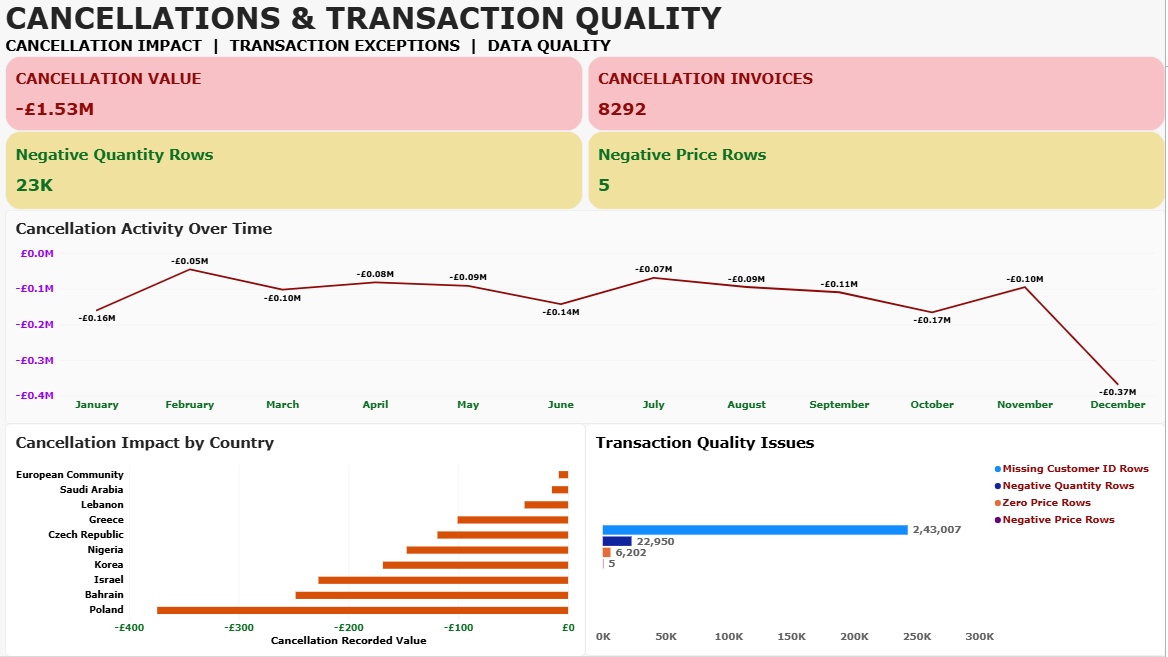

This screenshot's page, from the dashboard's own definition file:
{"tool":"powerbi","page":{"name":"CANCELLATIONS & TRANSACTION QUALITY","canvas":[1920,1080],"ordinal":2},"visuals":[{"type":"textbox","title":"CANCELLATIONS & TRANSACTION QUALITY","box":[10.3,0,1910.1,92.6],"z":0},{"type":"cardVisual","fields":{"Data":["online_retail_full.Cancellation Recorded Value","online_retail_full.Cancellation Invoices"]},"box":[10.3,92.6,1910.1,123.5],"z":1000},{"type":"cardVisual","fields":{"Data":["online_retail_full.Negative Quantity Rows","online_retail_full.Negative Price Rows"]},"box":[10.3,216.1,1910.1,129.7],"z":2000},{"type":"lineChart","title":"Cancellation Activity Over Time","fields":{"Category":["online_retail_full.InvoiceDate.Variation.Date Hierarchy.Month"],"Y":["online_retail_full.Cancellation Recorded Value"]},"box":[10.3,345.8,1910.1,352],"z":3000},{"type":"clusteredBarChart","title":"Cancellation Impact by Country","fields":{"Category":["online_retail_full.Country"],"Y":["online_retail_full.Cancellation Recorded Value"]},"box":[10.3,697.8,955.1,382.8],"z":4000},{"type":"clusteredBarChart","title":"Transaction Quality Issues","fields":{"Y":["online_retail_full.Missing Customer ID Rows","online_retail_full.Negative Quantity Rows","online_retail_full.Zero Price Rows","online_retail_full.Negative Price Rows"]},"box":[965,698,955,382],"z":5000}]}

Visuals, with their boxes in screenshot pixels (x1, y1, x2, y2), scaled from the page's 1920x1080 canvas onto the 1168x657 screenshot:
"CANCELLATIONS & TRANSACTION QUALITY" textbox: l=6, t=0, r=1167, b=56
cardVisual - online_retail_full.Cancellation Recorded Value x online_retail_full.Cancellation Invoices: l=6, t=56, r=1167, b=131
cardVisual - online_retail_full.Negative Quantity Rows x online_retail_full.Negative Price Rows: l=6, t=131, r=1167, b=210
"Cancellation Activity Over Time" lineChart: l=6, t=210, r=1167, b=424
"Cancellation Impact by Country" clusteredBarChart: l=6, t=424, r=587, b=656
"Transaction Quality Issues" clusteredBarChart: l=587, t=425, r=1167, b=656
